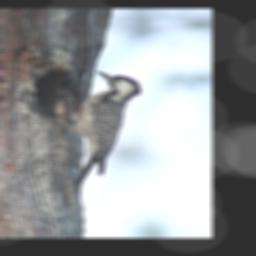Woodpecker: (47, 68, 143, 188)
